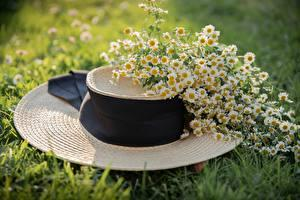chamomile: (178, 50, 294, 145), (113, 34, 233, 97)
